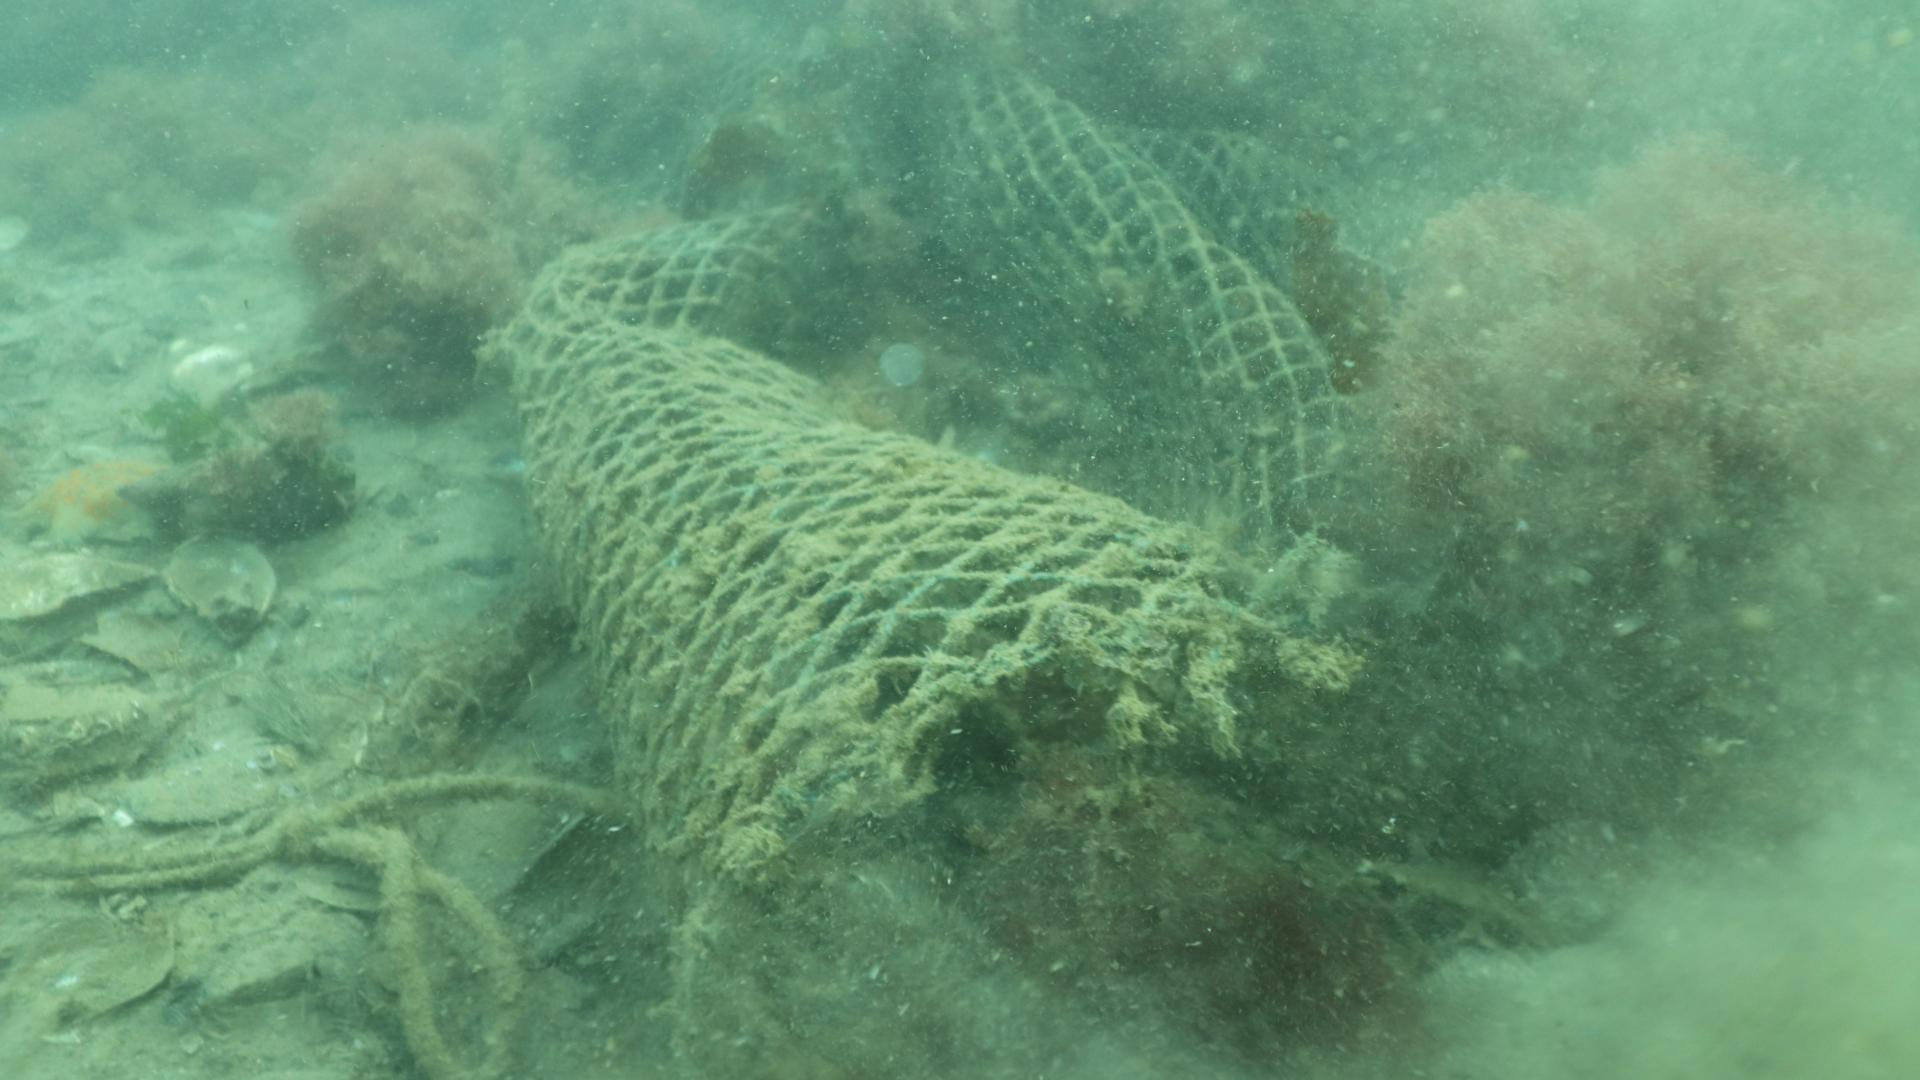fish net: (498, 65, 1349, 973)
